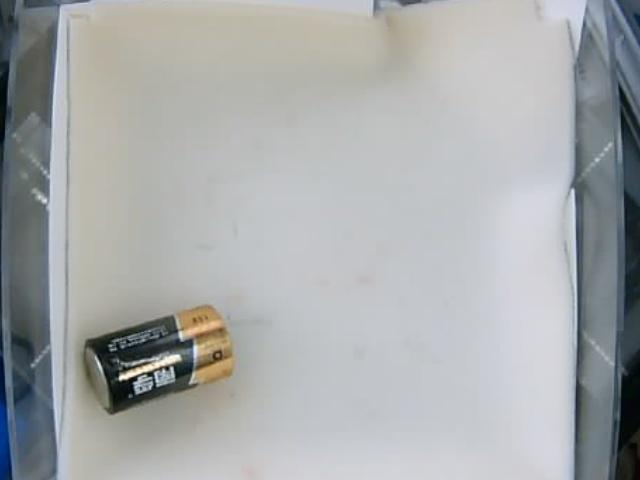Battery: (81, 302, 233, 412)
